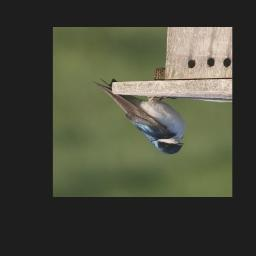Swallow: (92, 74, 187, 155)
